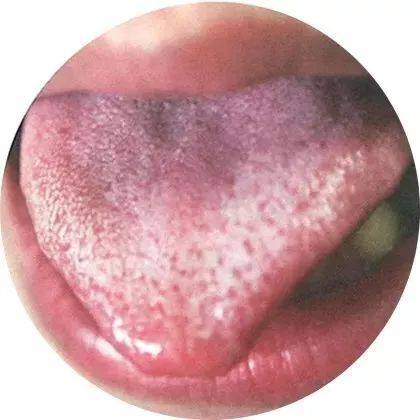baitaishe: (20, 73, 412, 378)
hongdianshe: (168, 198, 287, 319)
zishe: (20, 73, 412, 378)
